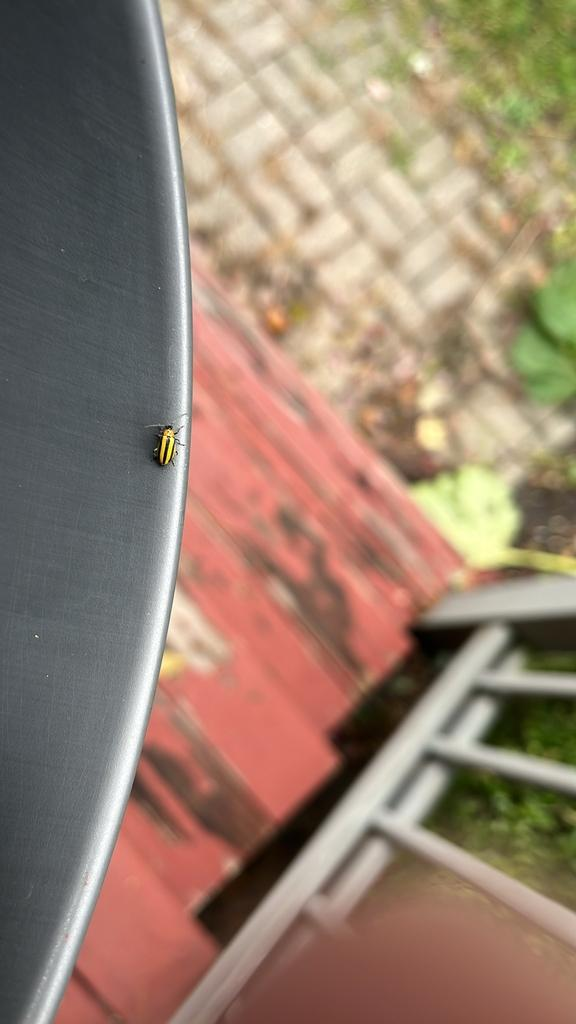potato_beetle: (129, 401, 206, 494)
